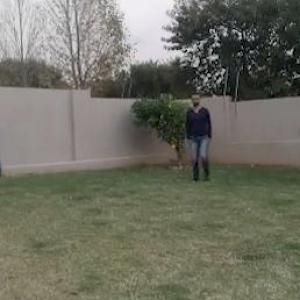follow: (189, 93, 210, 183)
